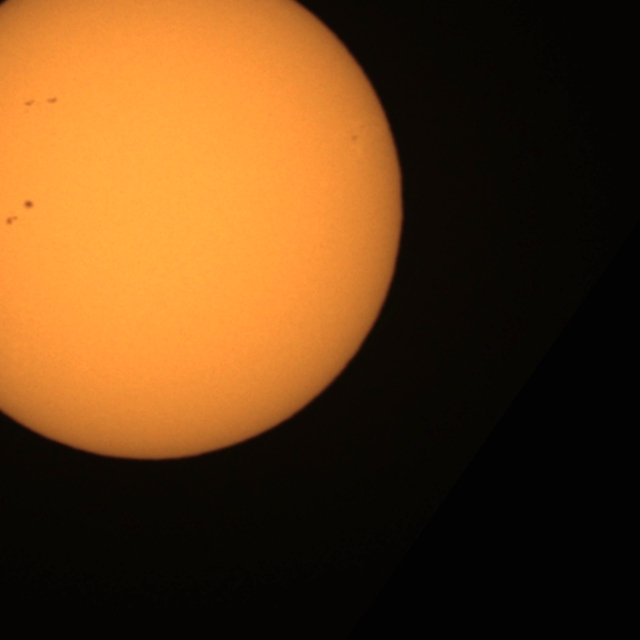sunspot: (3, 199, 35, 227), (22, 95, 61, 109), (4, 214, 19, 227), (22, 198, 36, 211), (44, 96, 59, 106), (23, 98, 36, 108)
